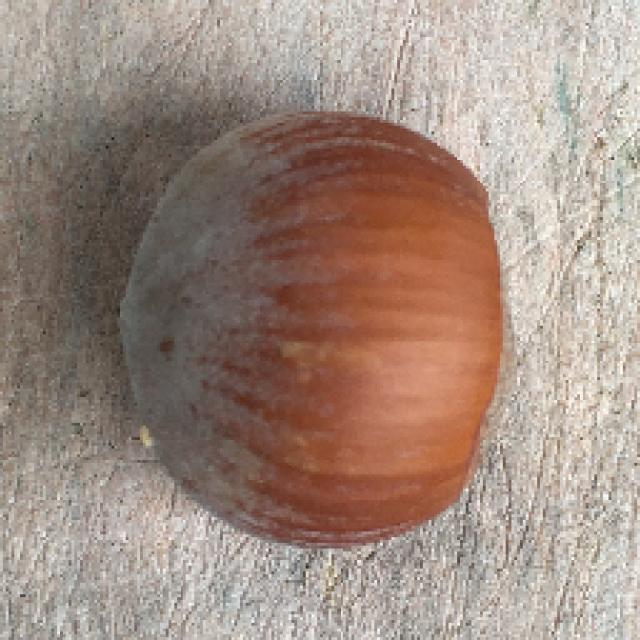qualityHazelnut: (112, 97, 509, 566)
